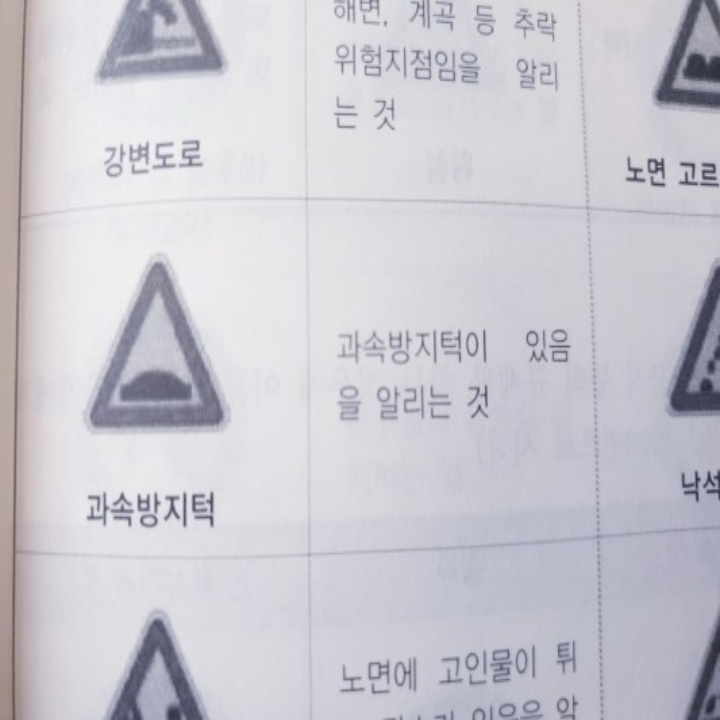bump: (113, 366, 198, 405)
